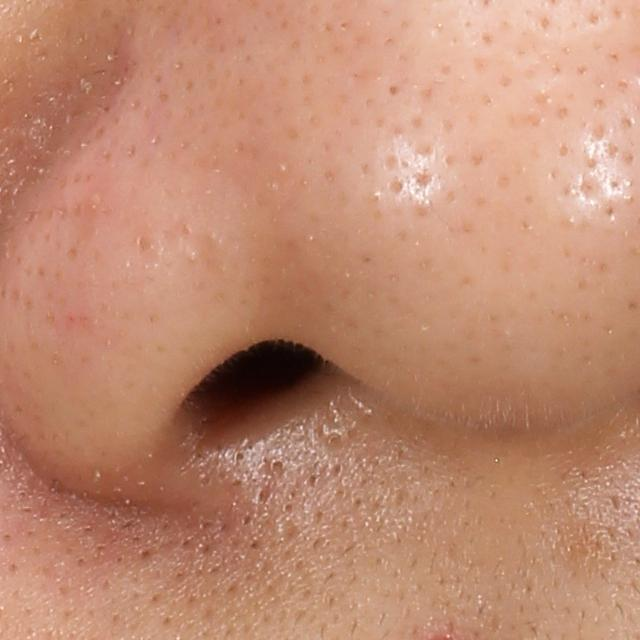comedo: (264, 451, 288, 476), (323, 431, 346, 451)
